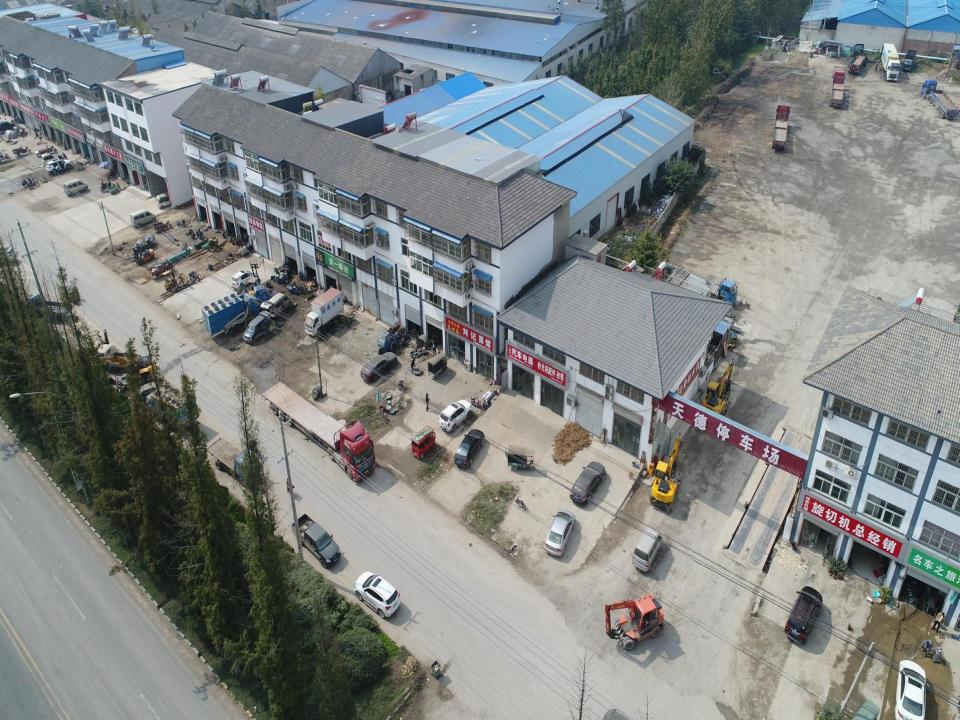car: (134, 375, 203, 434), (781, 585, 825, 646), (352, 571, 403, 621), (96, 347, 157, 387), (894, 657, 929, 720), (568, 459, 606, 504), (545, 508, 576, 558), (452, 429, 484, 468), (360, 351, 398, 382), (437, 399, 472, 432), (242, 311, 271, 344), (229, 264, 259, 292), (44, 157, 70, 172)
truck: (262, 377, 376, 483), (206, 437, 264, 489), (670, 265, 738, 309), (292, 514, 343, 568), (919, 77, 959, 121), (25, 291, 72, 324), (97, 343, 142, 375), (772, 102, 791, 152), (375, 321, 406, 350), (847, 41, 868, 75), (830, 69, 846, 109), (902, 47, 918, 75)
van: (632, 526, 663, 573), (260, 291, 292, 318), (130, 208, 156, 228), (63, 178, 88, 196)
